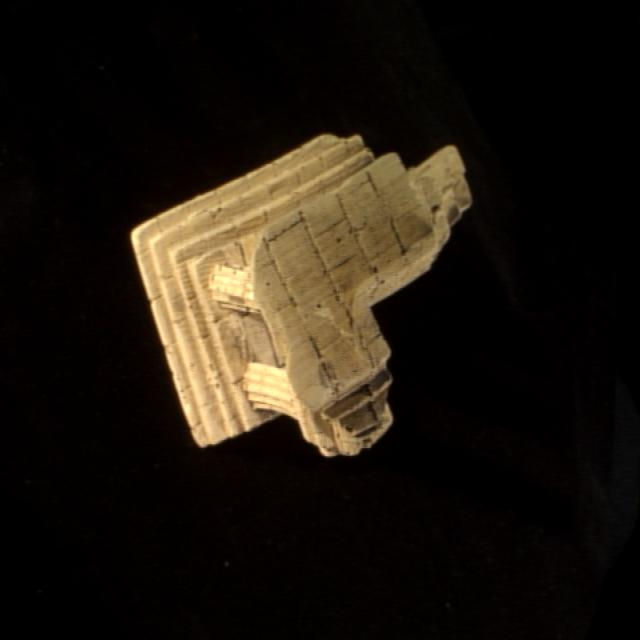Instance-Segmentation: (132, 135, 471, 453)
